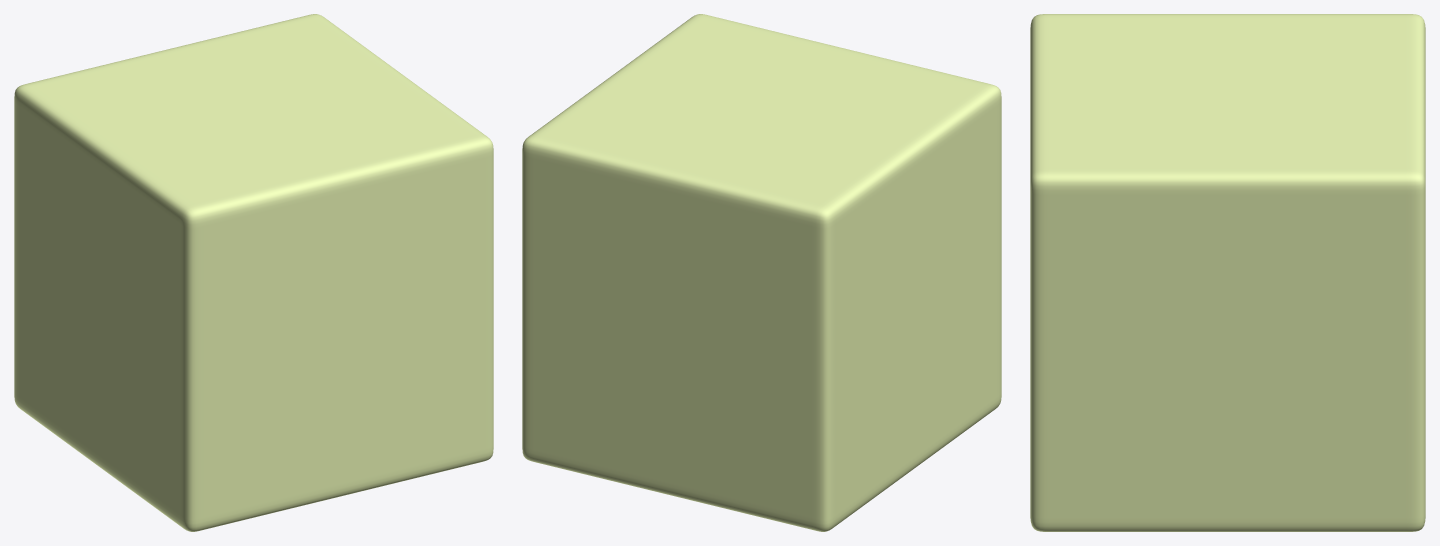
The picture shows the model from 3 angles, left to right: view 1: azimuth 30°, elevation 25°; view 2: azimuth 150°, elevation 25°; view 3: azimuth 270°, elevation 25°; orthographic projection. The views are drawn at different scales.
Parts seen in each view (by area): view 1: Box001__0; view 2: Box001__0; view 3: Box001__0.
Part boxes in pixels (bbox=[...]): Box001__0: bbox=[14, 14, 493, 531]; Box001__0: bbox=[522, 14, 1001, 531]; Box001__0: bbox=[1030, 14, 1425, 531].
Bounding box in the file's own units: 1 × 1 × 1.
